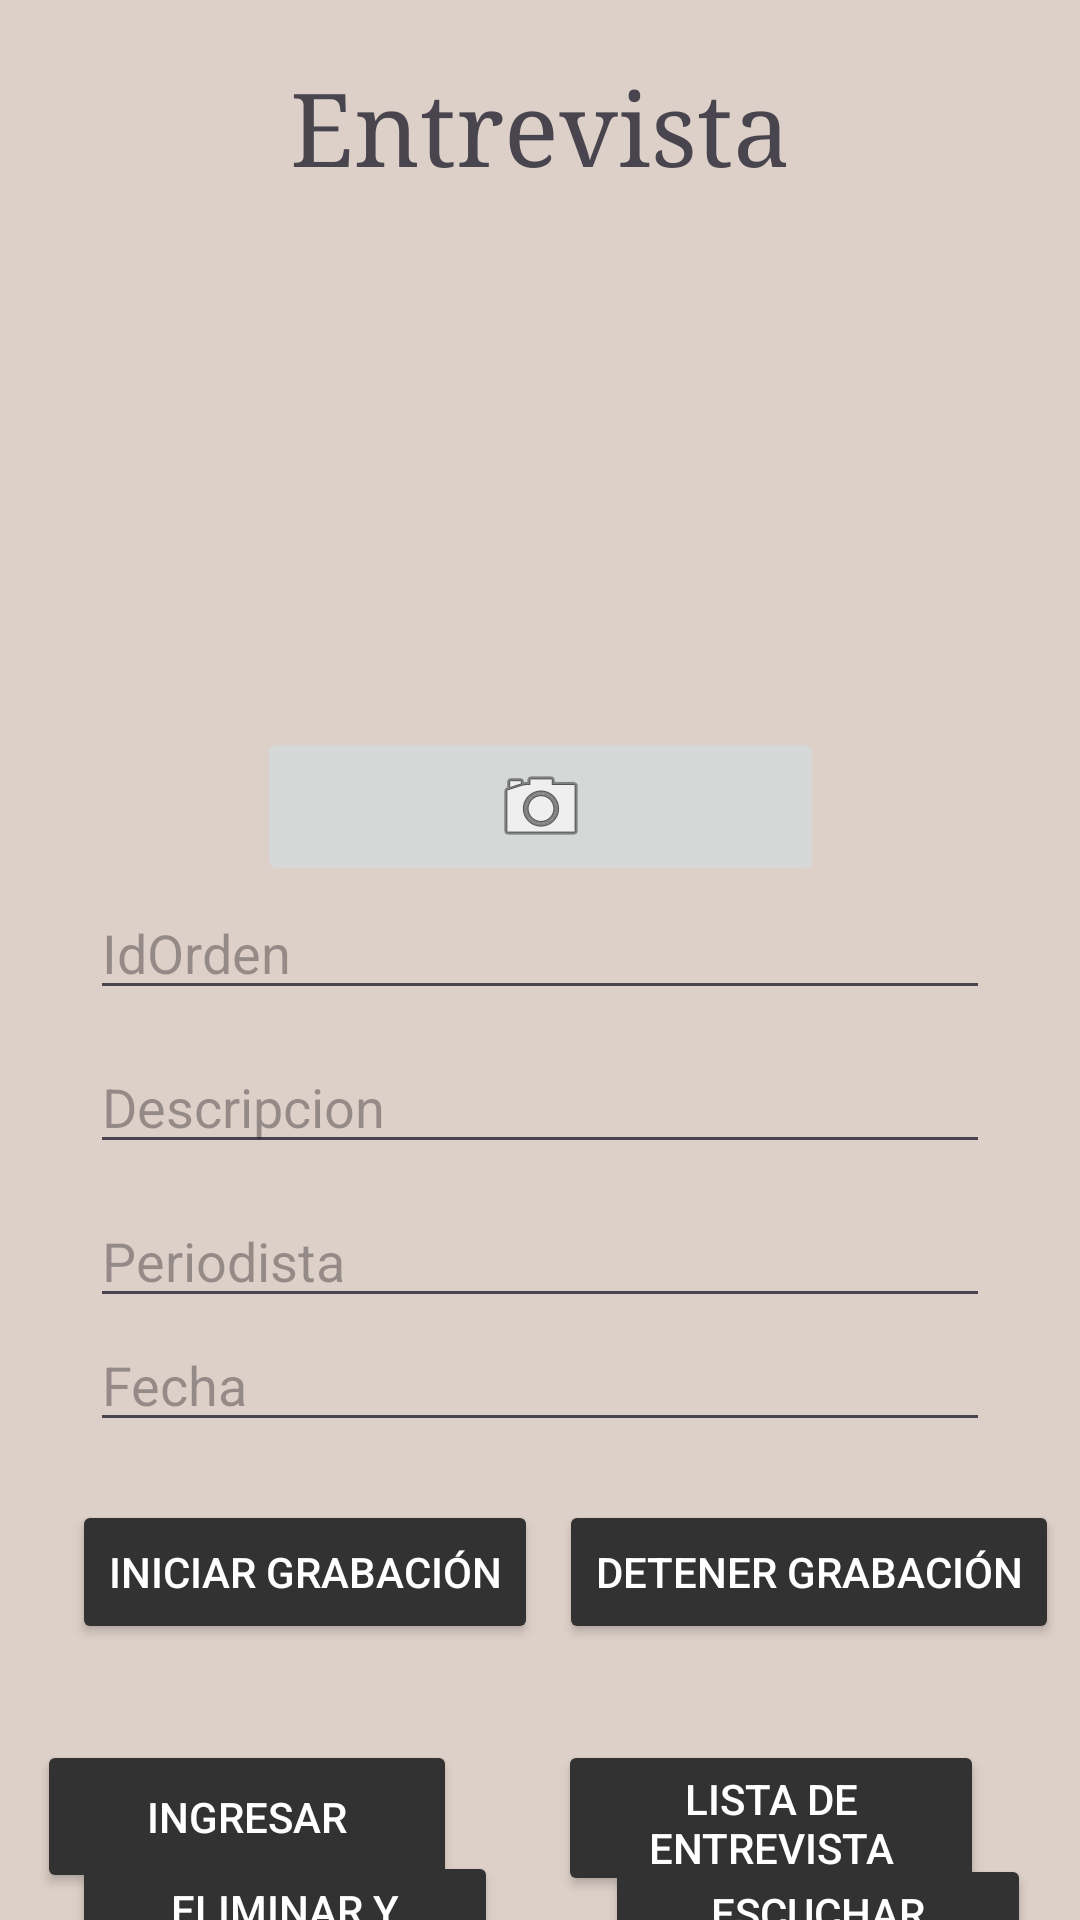

Icon click points for this 1080 x 1920 phone screenshot, format (x=x, y=y):
Imagen capturada: (x=541, y=805)
